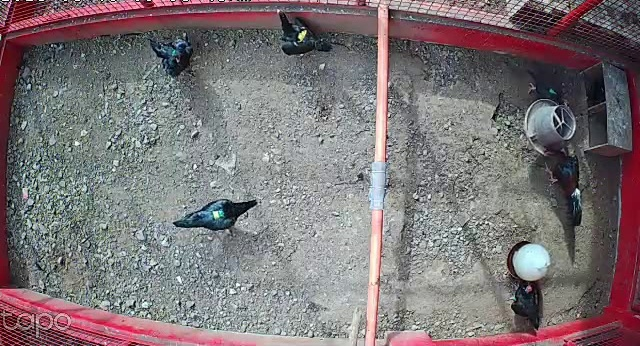Chicken: (172, 189, 260, 234), (269, 7, 338, 54), (142, 30, 199, 79), (506, 276, 547, 335), (522, 66, 571, 114)
Rooster: (539, 146, 590, 226)
Saddle_Color_Green: (548, 87, 557, 96)
Saddle_Color_Yellow: (296, 26, 310, 44)
Saddle_Color_YellowGreen: (213, 209, 225, 220)
